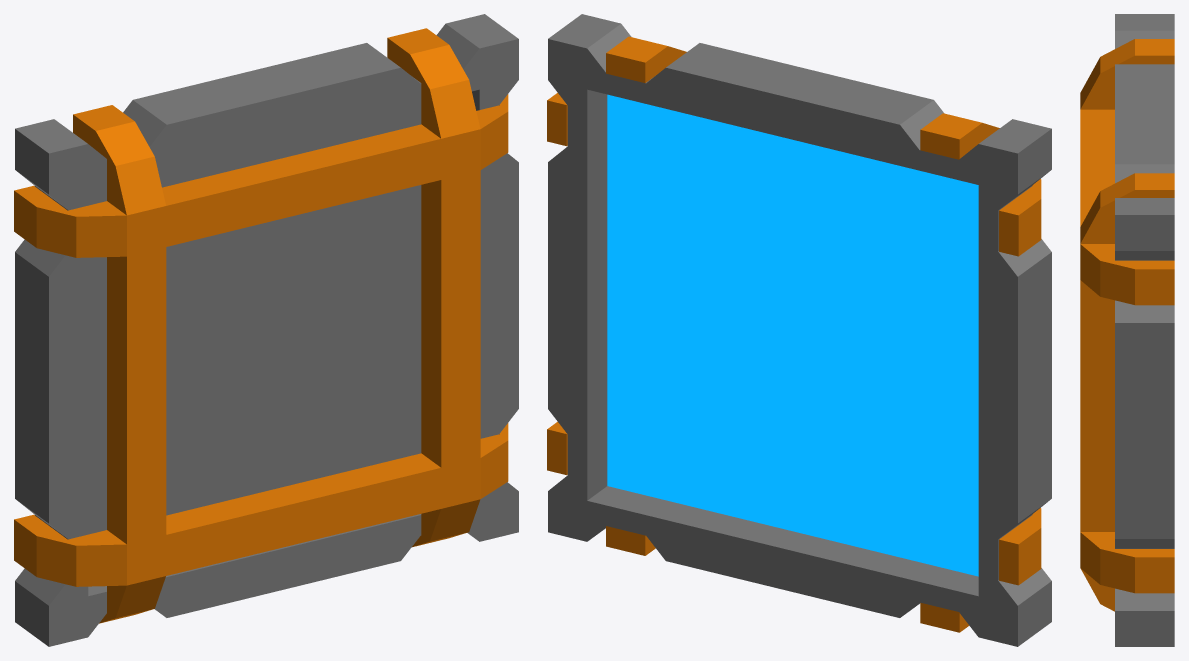
The model's file is menuObjSquare.glb.
3 renders of one model, left to right at view 1: azimuth 30°, elevation 25°; view 2: azimuth 150°, elevation 25°; view 3: azimuth 270°, elevation 25°, orthographic. The views are drawn at different scales.
Visible parts, largest first — view 1: Frame, Backplate; view 2: Screen, Frame, Backplate; view 3: Frame, Backplate.
Part boxes in pixels (<box>): Frame: <box>15,14,518,646</box>; Backplate: <box>14,28,508,623</box>; Screen: <box>607,94,978,576</box>; Frame: <box>548,14,1051,646</box>; Backplate: <box>547,36,1041,632</box>; Frame: <box>1115,14,1174,646</box>; Backplate: <box>1080,39,1174,611</box>.
Size of what is drawn, in the model's own units: 2.4 by 2.4 by 0.4744.
